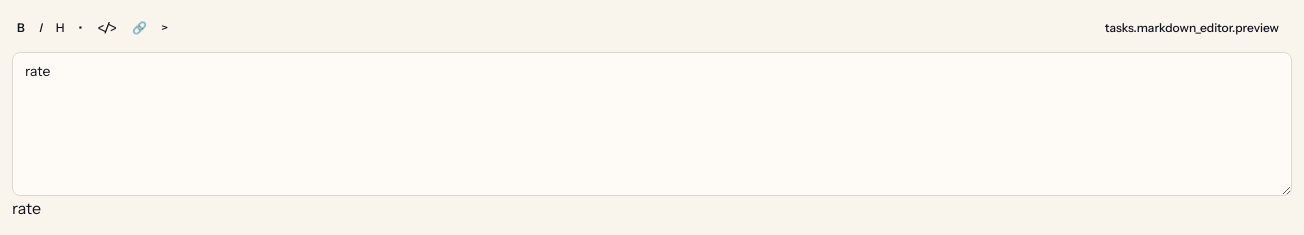
mention picker › a literal @ followed by a space leaves the text alone
Type "@ 20 per hour" into the text box named "body" at (652, 124), box [12, 52, 1292, 196]
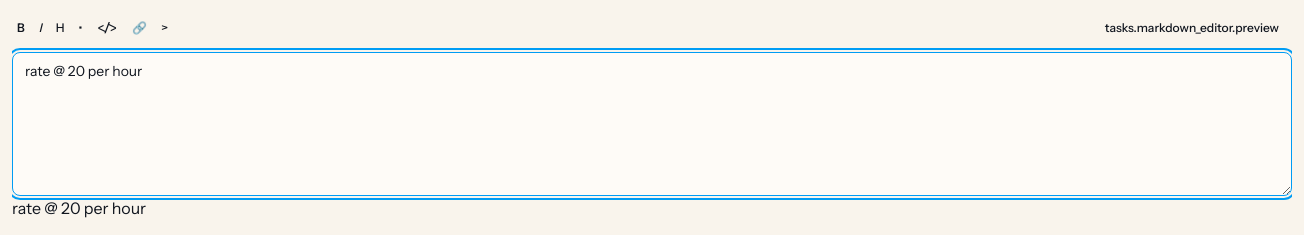
Expected: the text with test id "value" reads "rate @ 20 per hour", [12, 198, 146, 218]
